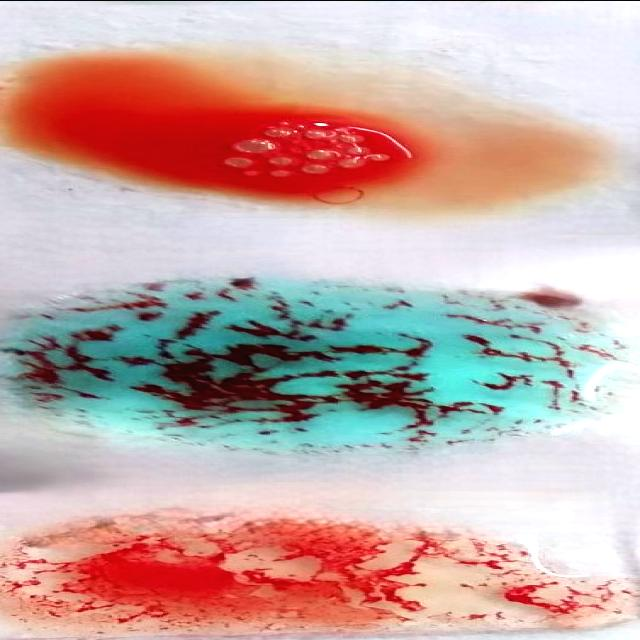A: (1, 280, 624, 444)
D: (0, 510, 632, 640)
